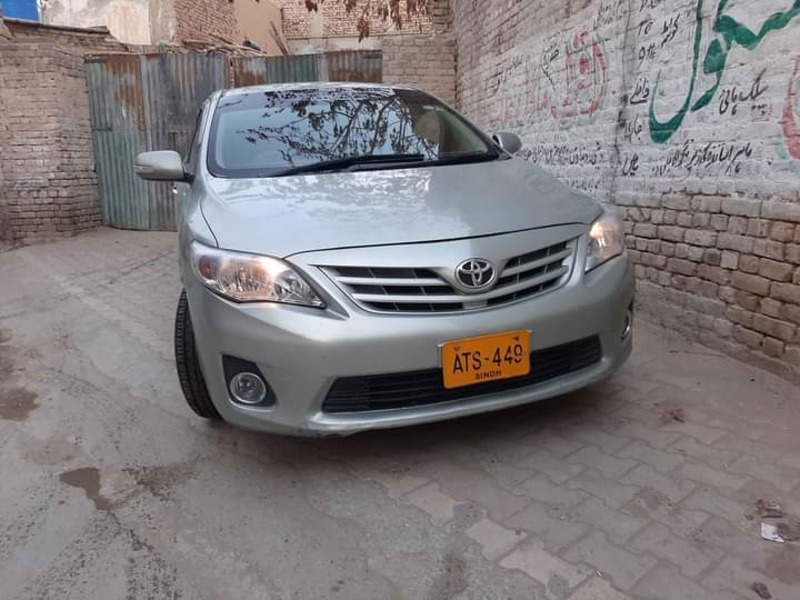License Plate: (441, 327, 531, 390)
